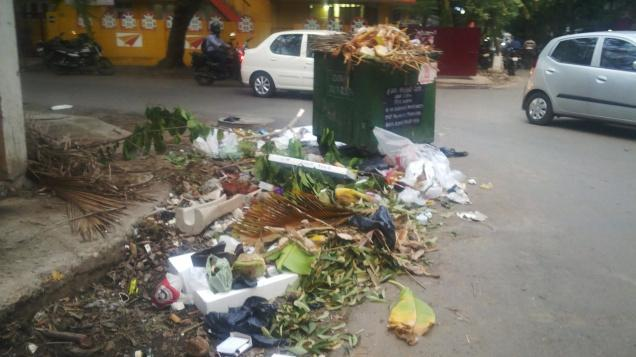Container: (314, 48, 439, 158)
Garbage: (107, 133, 491, 357), (362, 132, 480, 201), (378, 128, 460, 199), (378, 279, 450, 345), (337, 198, 415, 239), (140, 274, 194, 323), (191, 253, 233, 295), (206, 326, 264, 354), (206, 122, 252, 154), (242, 243, 270, 292), (212, 172, 260, 199), (270, 126, 314, 149), (454, 206, 486, 229)
